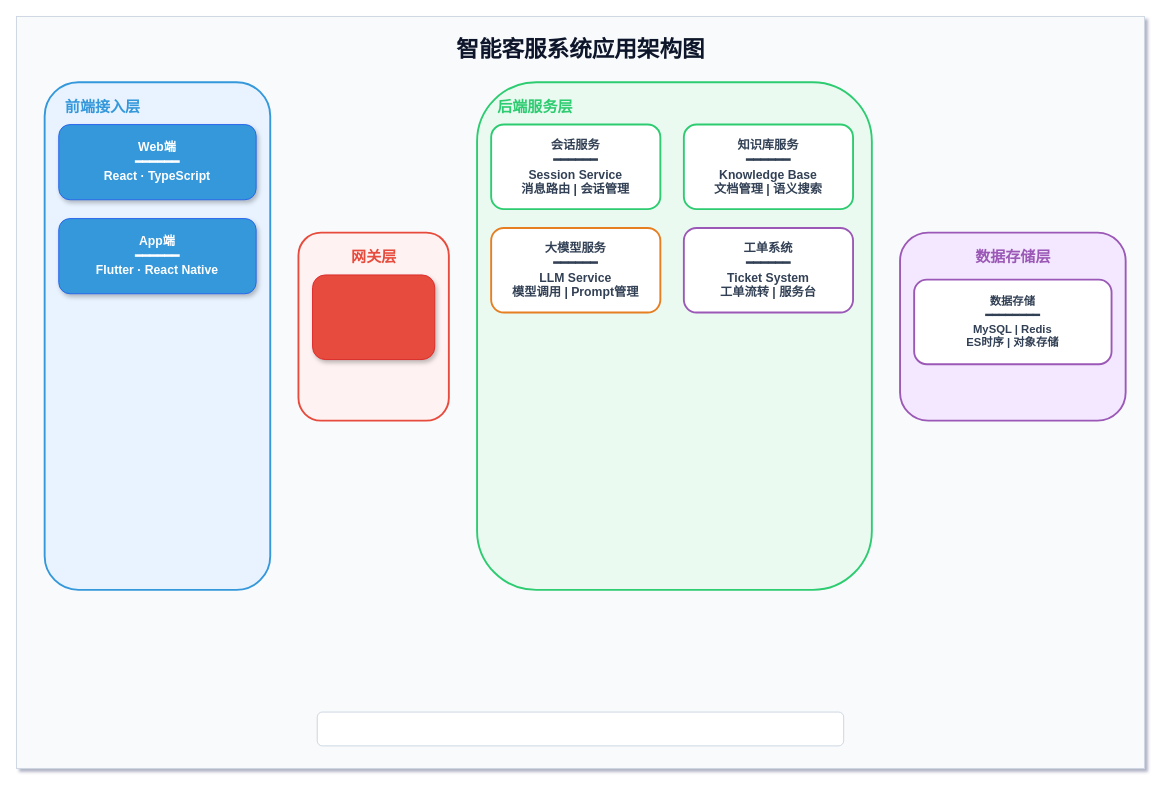
Image size: 1167x791. Some labels were removed from this diagram. The centre of each missing label's shape, as x and y in pixels:
API Gateway ━━━━━━━━ 路由 | 认证 | 限流: pixel 374 318
蓝色=前端接入 红色=网关 绿色=后端服务 橙色=LLM/AI 紫色=数据存储: pixel 580 728
